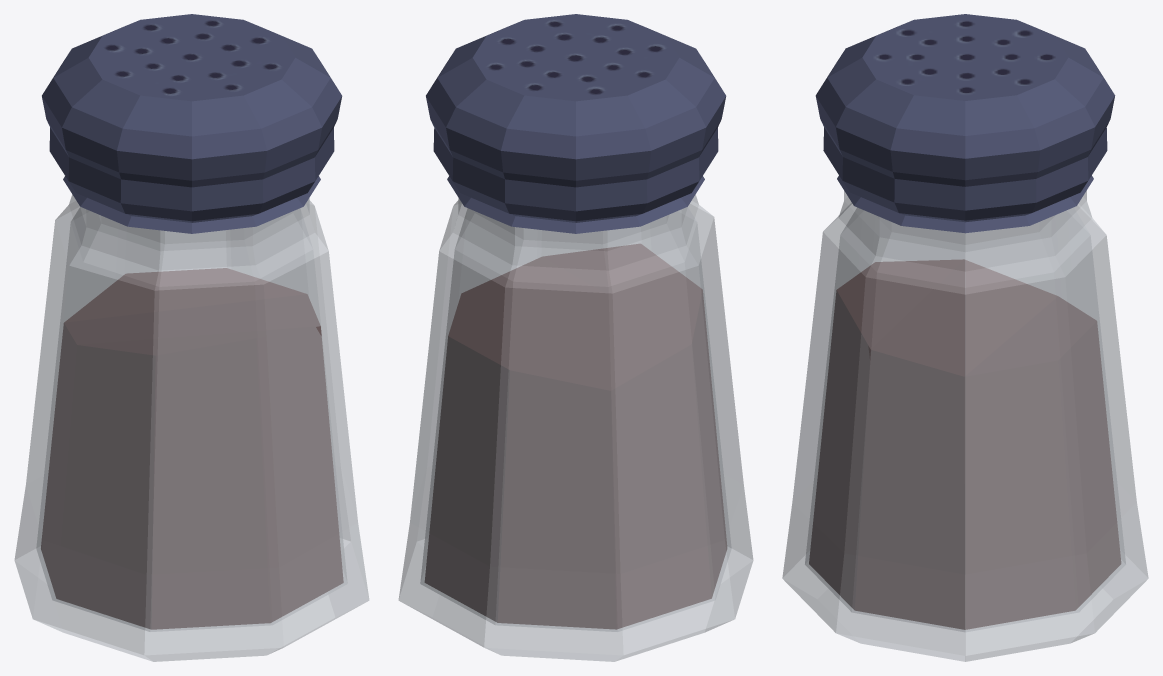
Rendered from f_peppershaker.fbx.
The picture shows the model from 3 angles, left to right: view 1: azimuth 30°, elevation 25°; view 2: azimuth 150°, elevation 25°; view 3: azimuth 270°, elevation 25°; orthographic projection.
Visible parts, largest first — view 1: peppershaker_body.001, pepper_inside.001, pepper_cap.001; view 2: peppershaker_body.001, pepper_inside.001, pepper_cap.001; view 3: peppershaker_body.001, pepper_inside.001, pepper_cap.001.
Boxes of the visible parts, x1,y1,x2,y2 form: peppershaker_body.001: [14, 195, 369, 661]; pepper_inside.001: [41, 268, 343, 629]; pepper_cap.001: [42, 14, 342, 233]; peppershaker_body.001: [398, 195, 753, 661]; pepper_inside.001: [425, 244, 726, 629]; pepper_cap.001: [426, 14, 726, 233]; peppershaker_body.001: [782, 190, 1148, 661]; pepper_inside.001: [809, 259, 1120, 629]; pepper_cap.001: [815, 14, 1115, 233].
Size of the model in its own units: 13.55 by 13.55 by 22.11.
